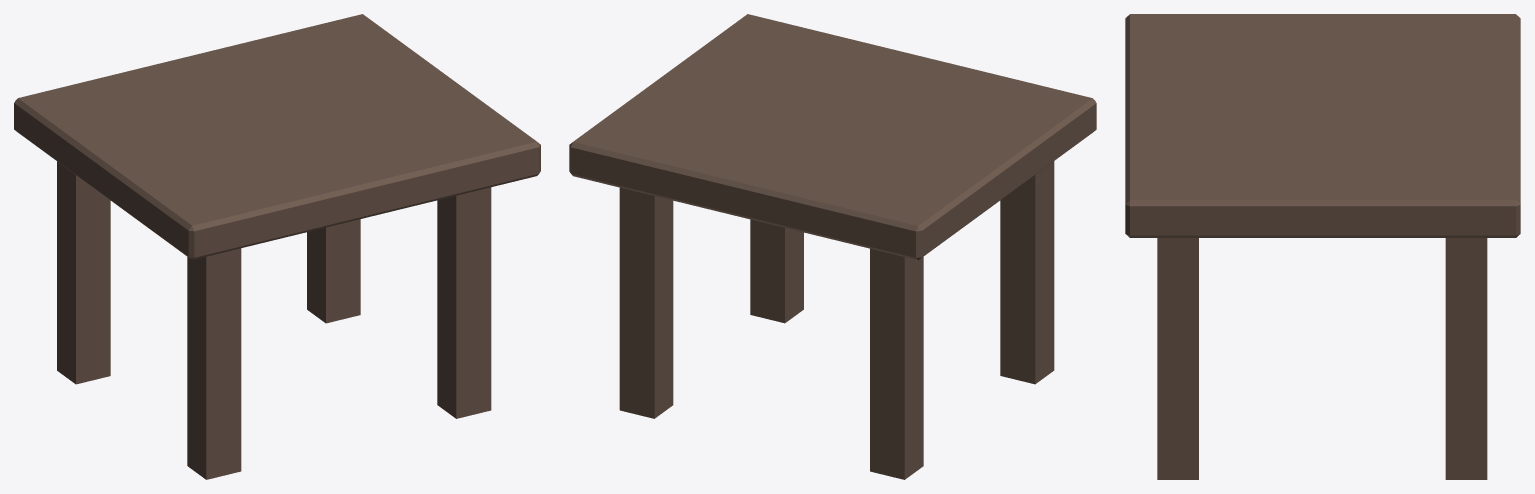
Rendered from Cocina_MesaCuadrada_09.fbx.
3 views of the same model, side by side, from view 1: azimuth 30°, elevation 25°; view 2: azimuth 150°, elevation 25°; view 3: azimuth 270°, elevation 25° (orthographic). The views are drawn at different scales.
Parts seen in each view (by area): view 1: mesa cuadrada; view 2: mesa cuadrada; view 3: mesa cuadrada.
Boxes of the visible parts, left/top/right/bottom form: mesa cuadrada: left=14, top=14, right=540, bottom=479; mesa cuadrada: left=569, top=14, right=1096, bottom=479; mesa cuadrada: left=1125, top=14, right=1520, bottom=479.
Bounding box in the file's own units: 97.88 × 71.56 × 86.
1 material, 1 textured.
